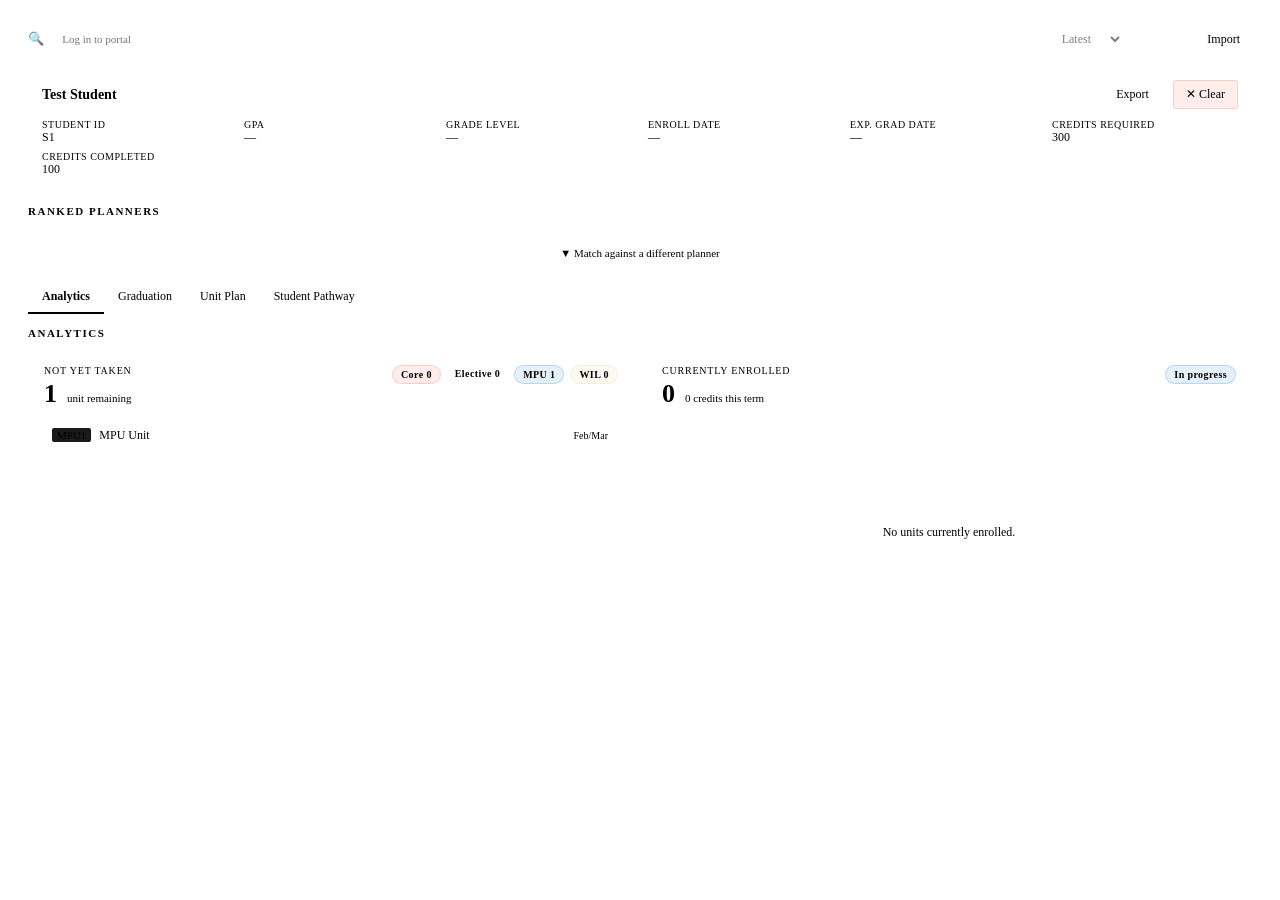
Test: Graduation Check: per-category credit bars › all four _cp fields set: three bars render, correct achieved/required, summing to the old combined total
Click the tab "Graduation" at (145, 298), box x1=104 y1=281 x2=186 y2=314
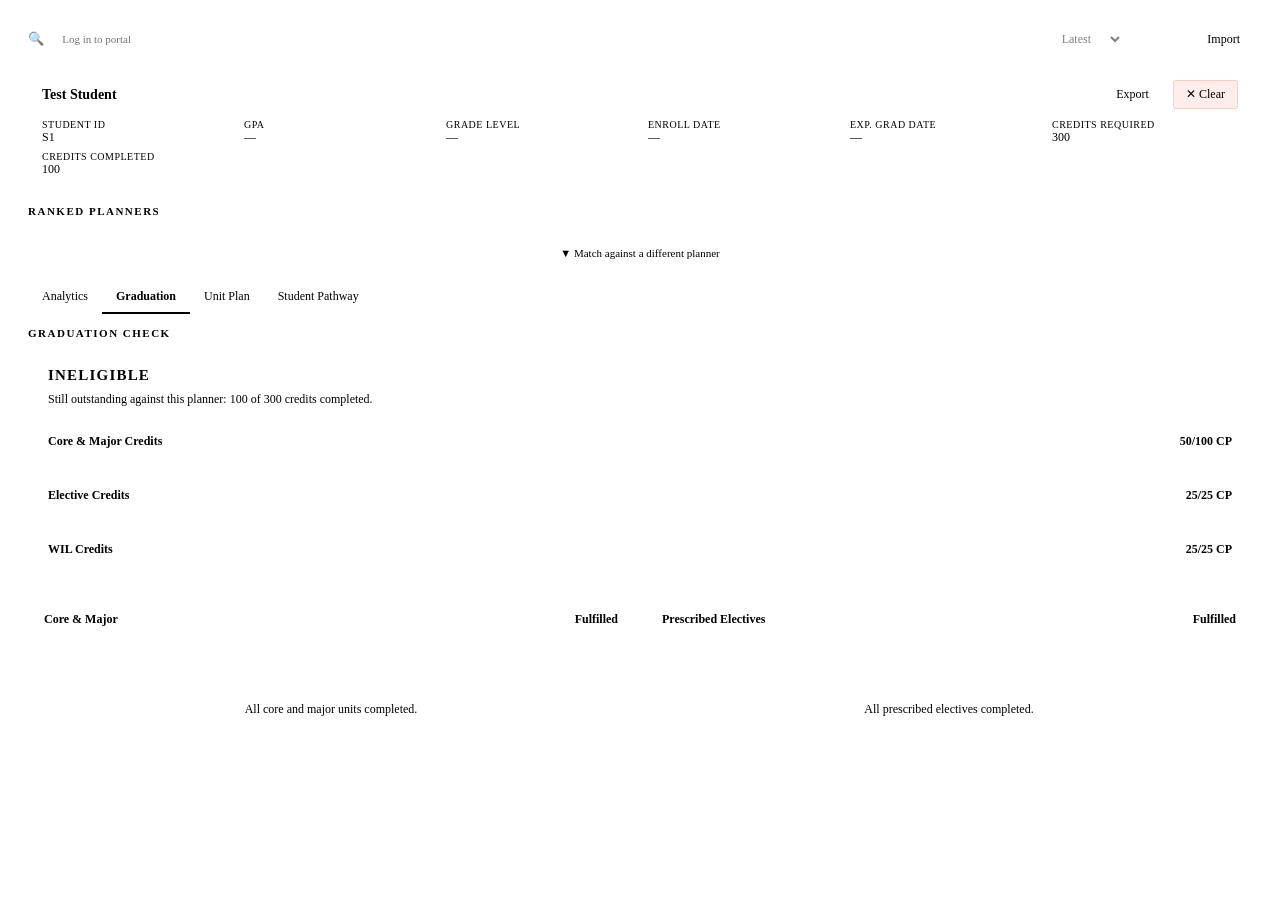
Expected: the text "Test Student" is shown, x1=42 y1=86 x2=117 y2=102
Expected: the text "50/100 CP" is shown, x1=1180 y1=434 x2=1232 y2=449
Expected: the text "25/25 CP" in the row of "Elective Credits" is shown, x1=1186 y1=488 x2=1232 y2=503
